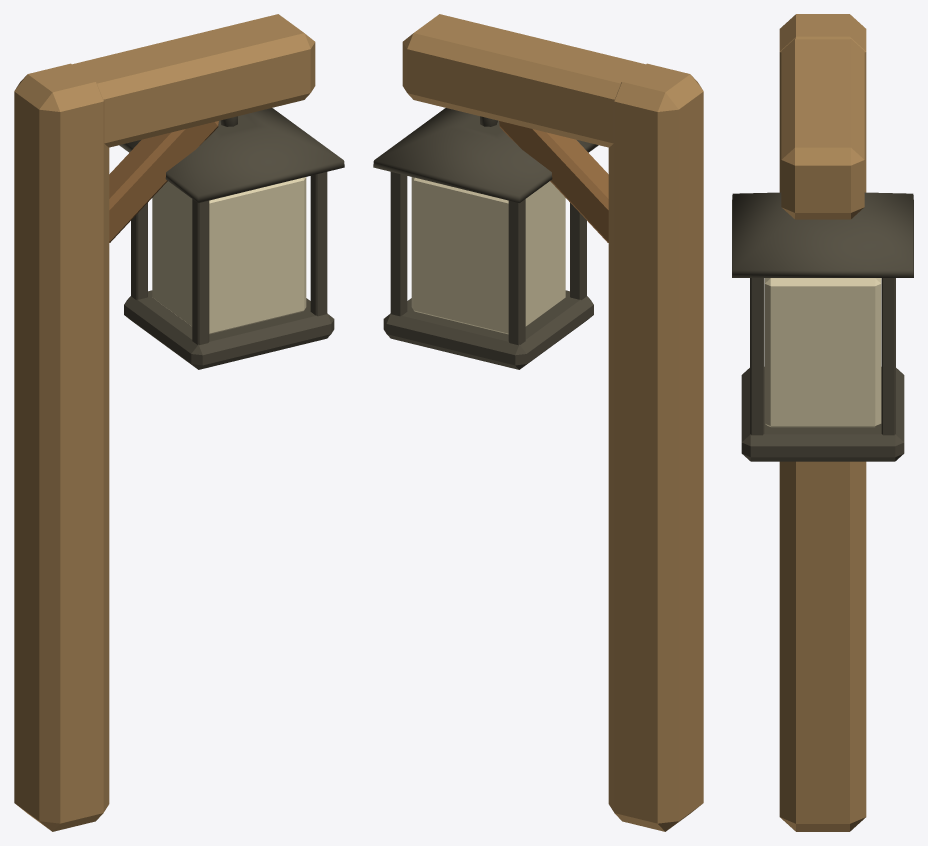
Rendered from deco_lantern.glb.
3 views of the same model, side by side, from view 1: azimuth 30°, elevation 25°; view 2: azimuth 150°, elevation 25°; view 3: azimuth 270°, elevation 25° (orthographic). The views are drawn at different scales.
Parts seen in each view (by area): view 1: deco_lantern; view 2: deco_lantern; view 3: deco_lantern.
Boxes of the visible parts, <box> form: deco_lantern: <box>14,14,344,831</box>; deco_lantern: <box>373,14,703,831</box>; deco_lantern: <box>732,14,913,831</box>.
Bounding box in the file's own units: 0.4527 × 1.16 × 0.2404.
